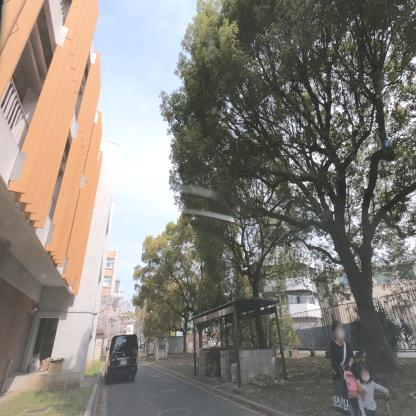Someiyoshino: (92, 293, 142, 342)
